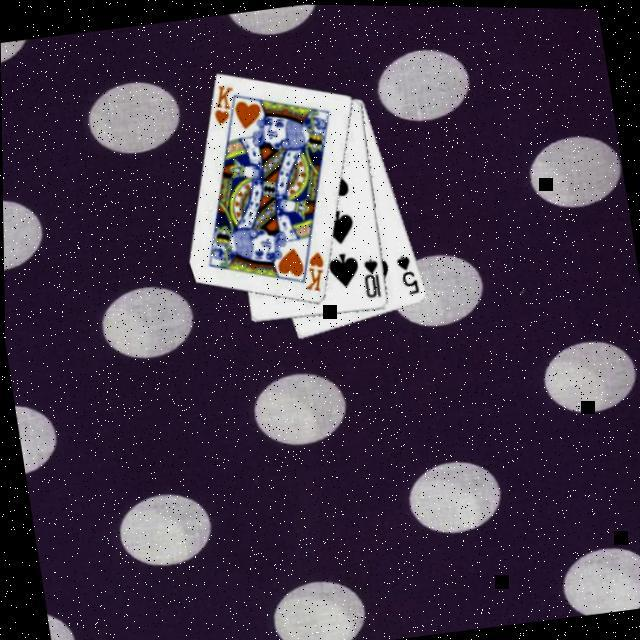10S: (356, 255, 384, 302)
5S: (391, 250, 422, 299)
KH: (296, 248, 330, 296), (206, 82, 240, 130)
